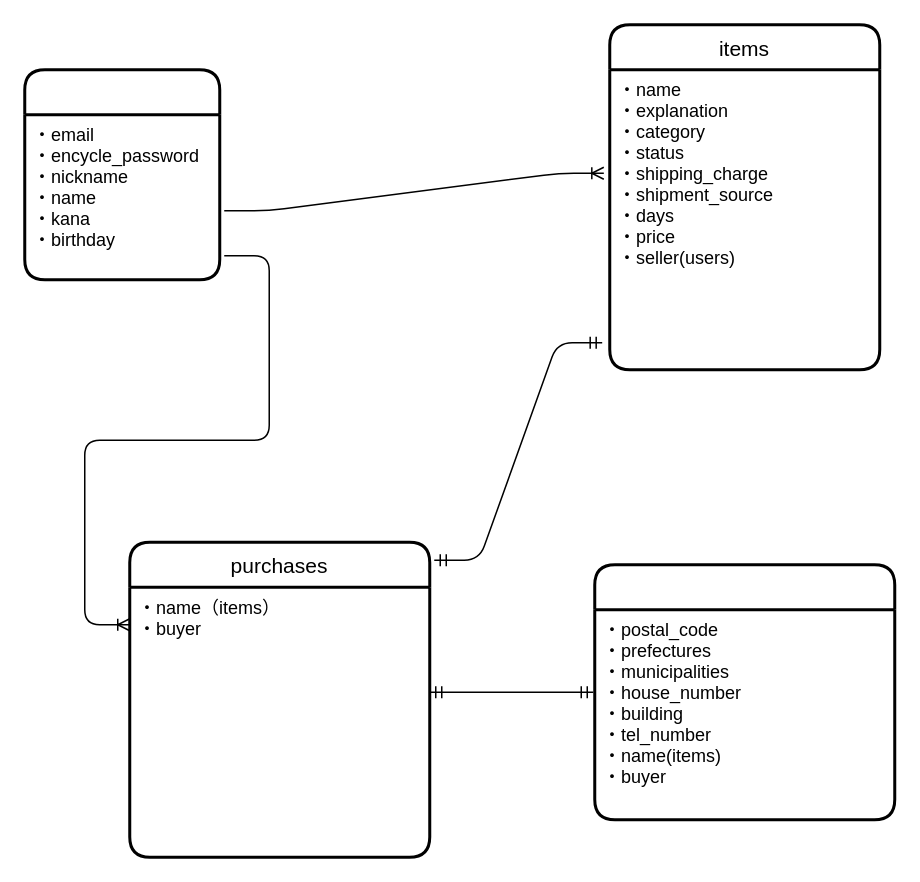
The diagram is 920 pixels wide and 882 high, and some of its shapes have lost their labels. Here are the shapes that lost their labels. From the top down, the box of each, then its label:
(22, 68, 220, 280): users
(592, 562, 896, 820): address
